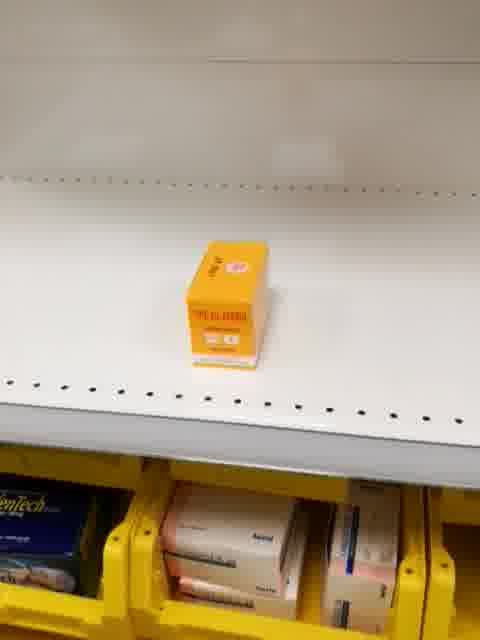jasminetea: (183, 237, 272, 374)
